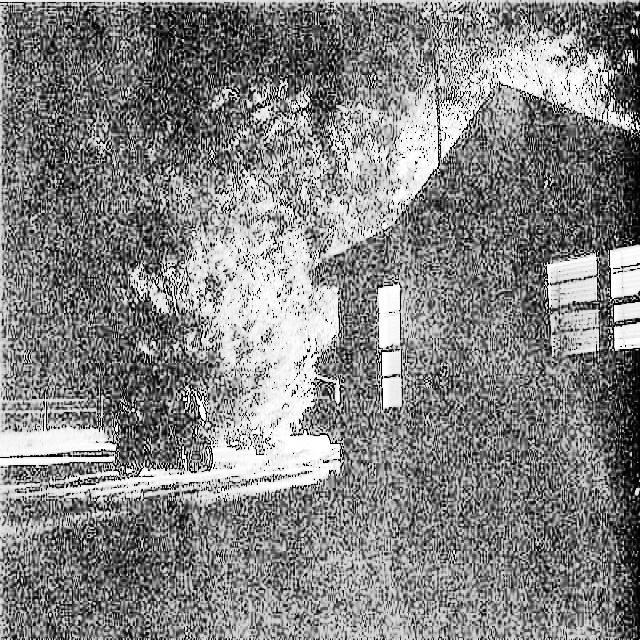Motorcycle: (97, 382, 232, 496)
